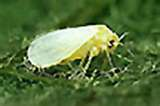whitefly: (25, 24, 129, 79)
